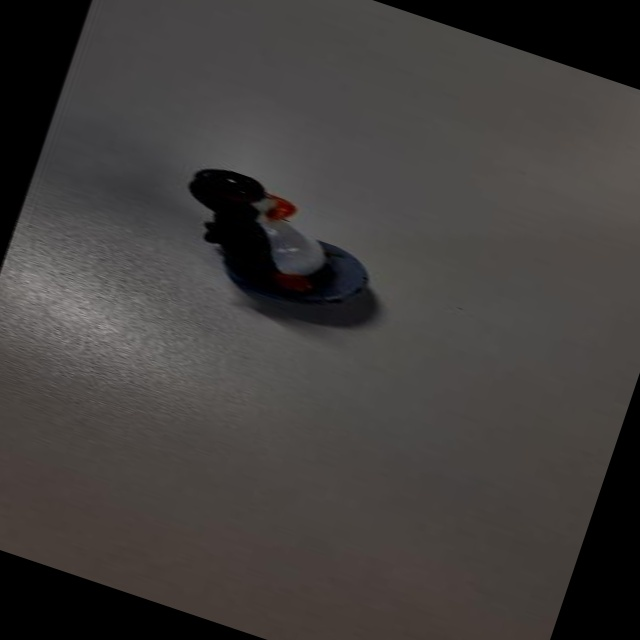Penguin: (152, 156, 411, 340)
